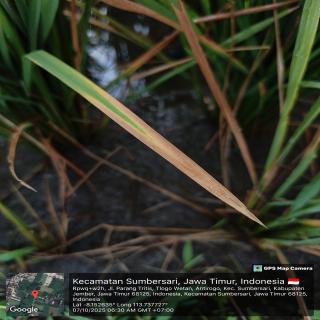Hawar-Daun: (83, 87, 258, 222)
